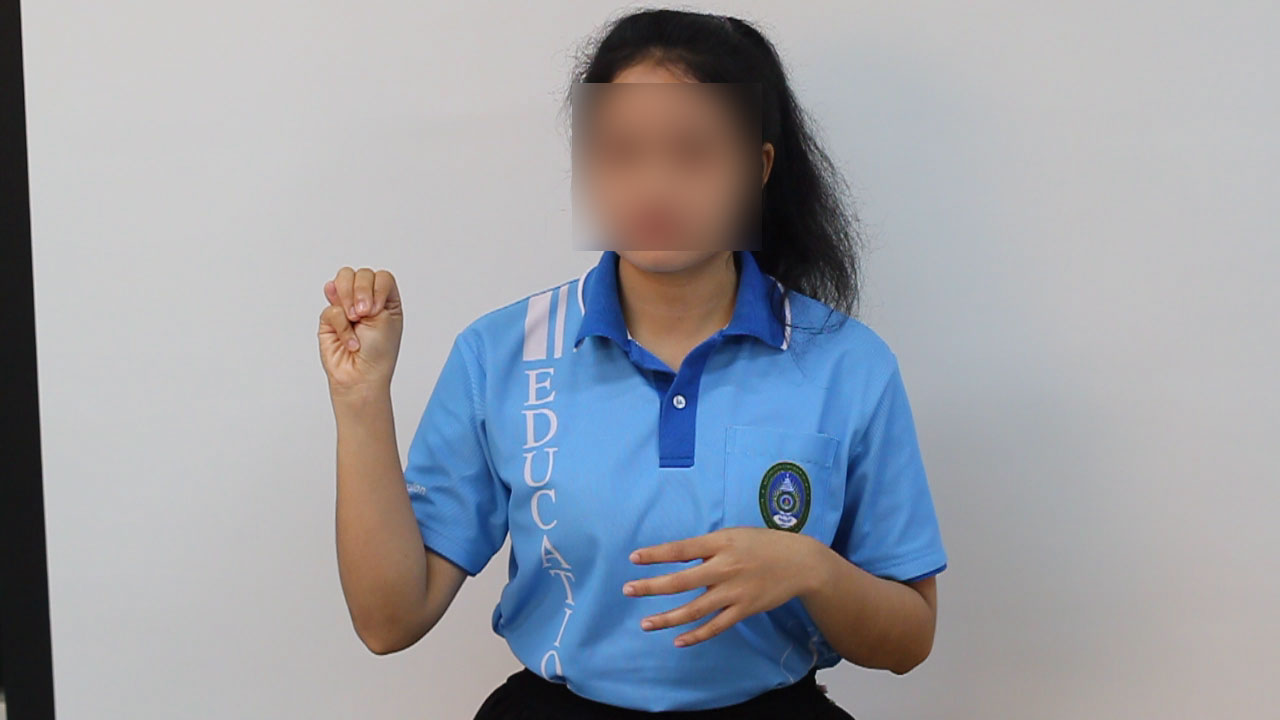mor: (297, 240, 421, 409)
